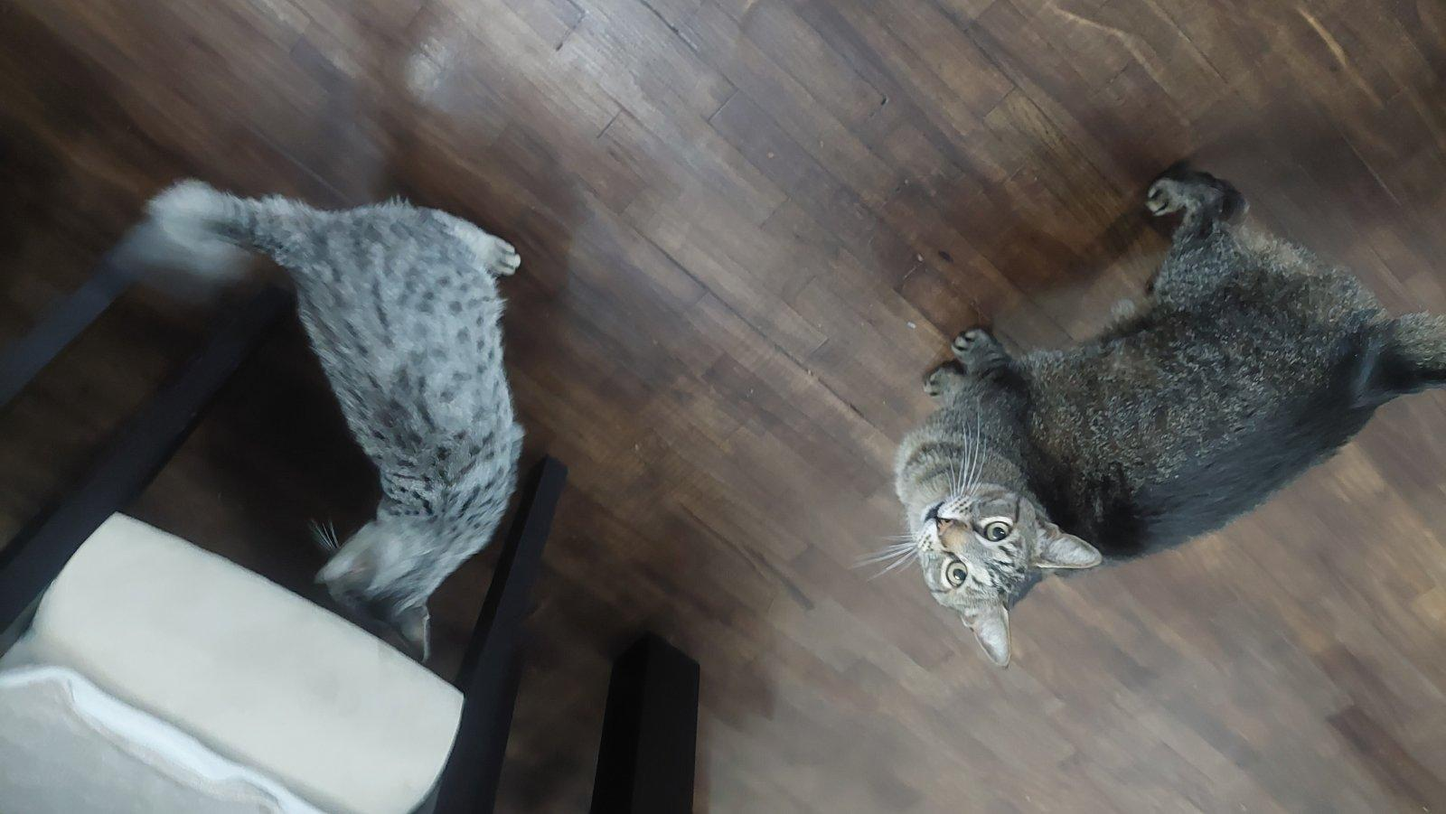macka: (892, 177, 1445, 669), (146, 181, 526, 660)
